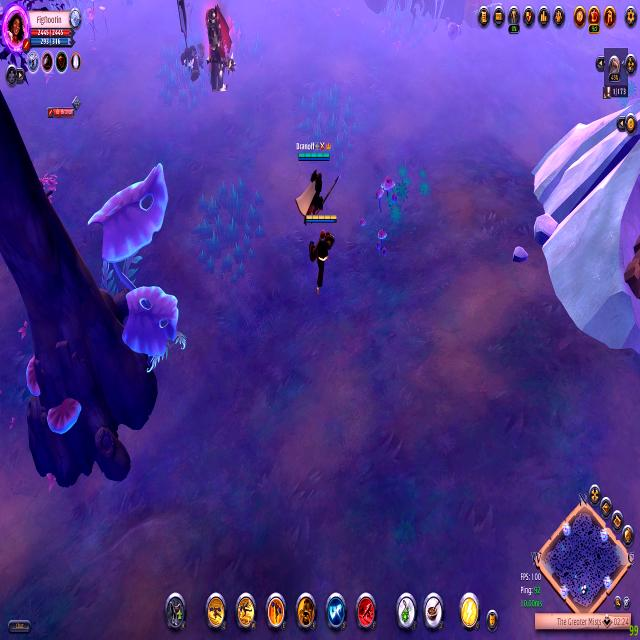ore: (198, 3, 242, 109)
red: (294, 134, 340, 238), (303, 206, 342, 305)
